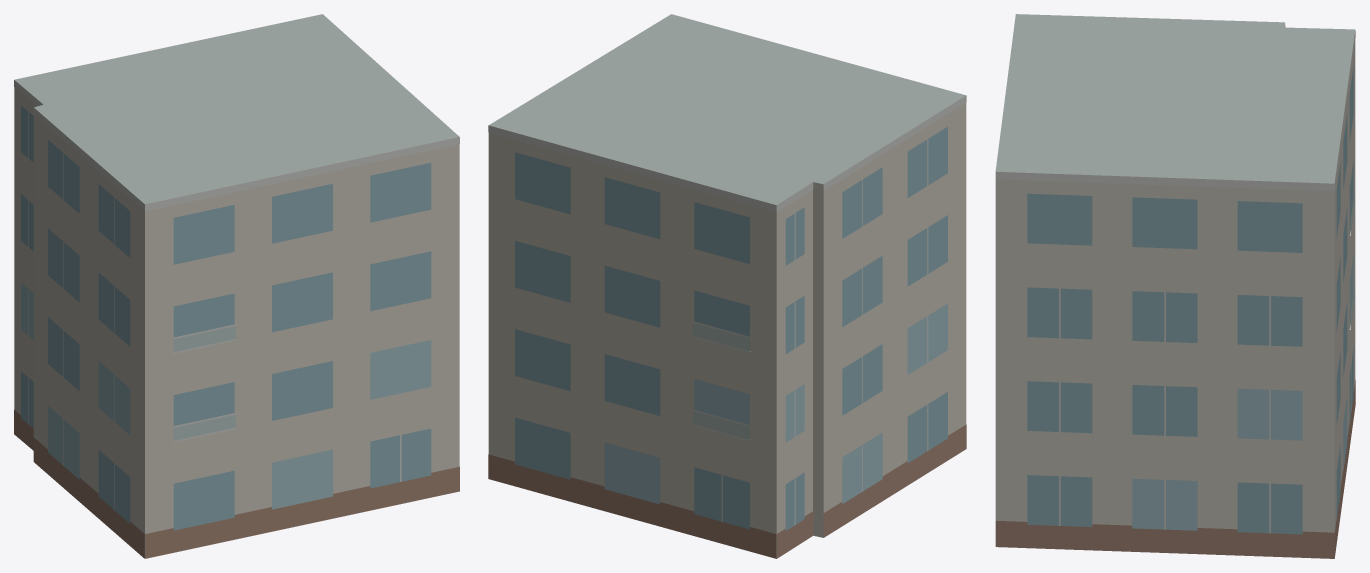
The model's file is survey-upis-32690552.glb.
The picture shows the model from 3 angles, left to right: view 1: azimuth 30°, elevation 25°; view 2: azimuth 150°, elevation 25°; view 3: azimuth 270°, elevation 25°; orthographic projection. The views are drawn at different scales.
Visible parts, largest first — view 1: survey-upis-32690552.tmp; view 2: survey-upis-32690552.tmp; view 3: survey-upis-32690552.tmp.
Part boxes in pixels (x1,y1,x2,y2): survey-upis-32690552.tmp: (14, 14, 459, 558); survey-upis-32690552.tmp: (488, 14, 966, 558); survey-upis-32690552.tmp: (995, 14, 1355, 558).
Size of the model in its own units: 11.84 by 12.2 by 10.62.
